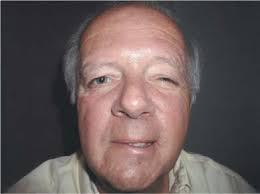strokeEyeSevere: (76, 53, 187, 96)
strokeMouthMid: (103, 134, 161, 156)
